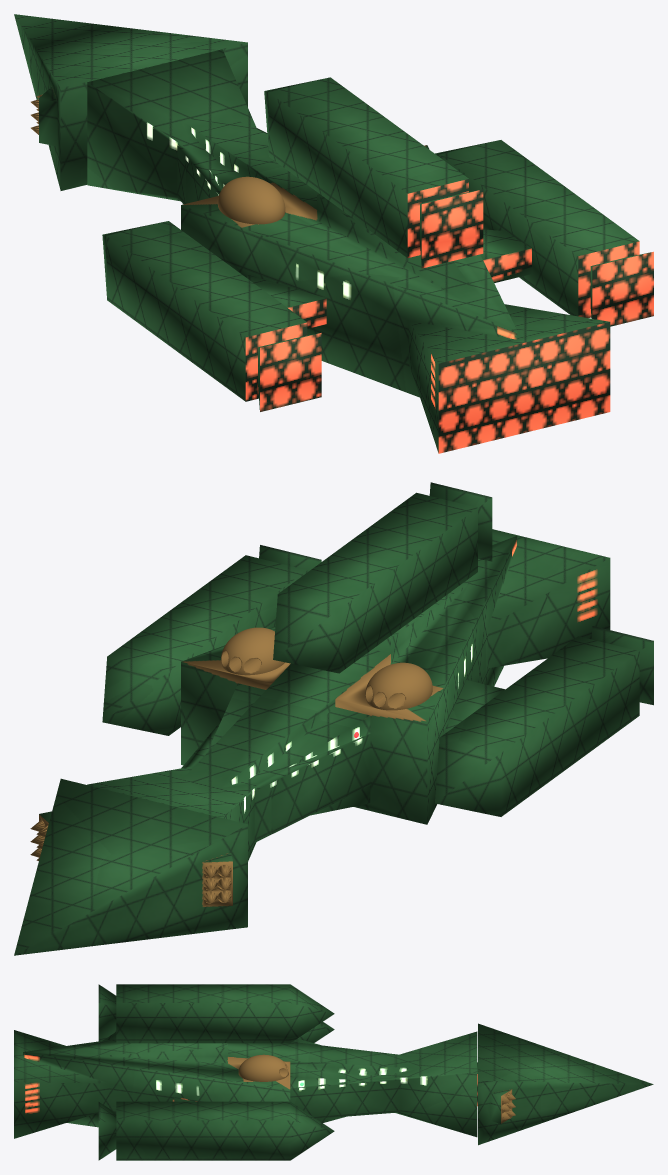
The model's file is krelath_battleship.glb.
3 renders of one model, top to bottom at view 1: azimuth 30°, elevation 25°; view 2: azimuth 150°, elevation 25°; view 3: azimuth 270°, elevation 25°, orthographic. The views are drawn at different scales.
Visible parts, largest first — view 1: KrelathBattleship; view 2: KrelathBattleship; view 3: KrelathBattleship.
Part boxes in pixels (<box>): KrelathBattleship: <box>14,14,653,453</box>; KrelathBattleship: <box>14,482,653,955</box>; KrelathBattleship: <box>14,984,653,1160</box>.
Size of the model in its own units: 25.4 by 13.87 by 57.
Materials: 1 (1 with a texture image).
